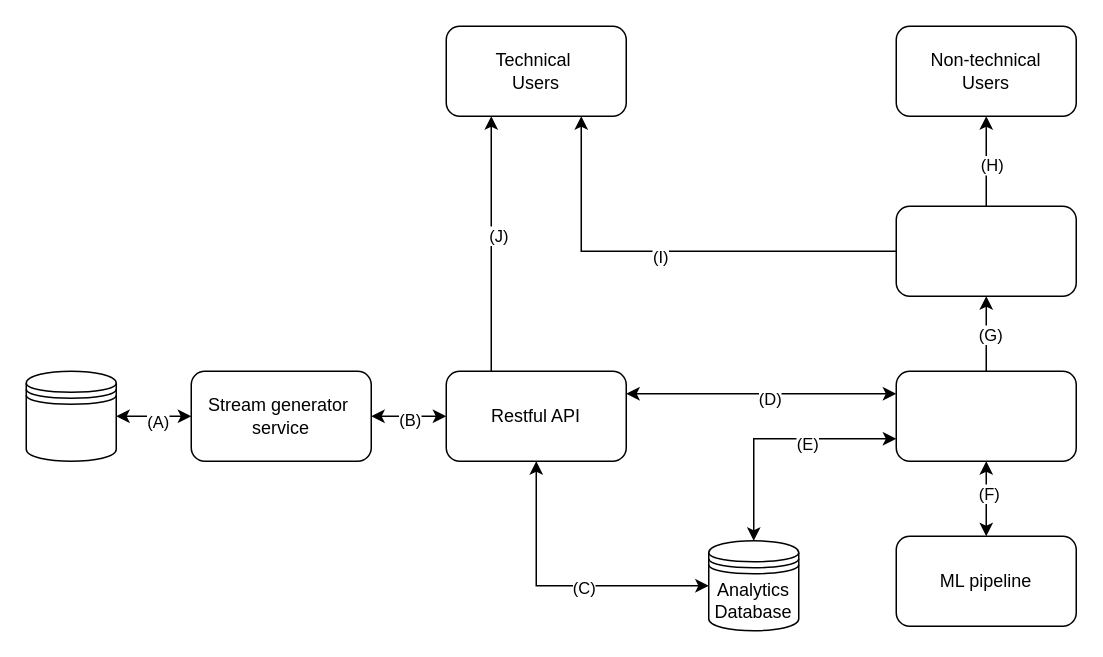
Image size: 1103x657. Some labels were removed from this diagram. Each missing label, with the centre of its shape:
"Browser based GUI" goes at (985,250).
"FD Database" goes at (70,415).
"Web application" goes at (985,415).
